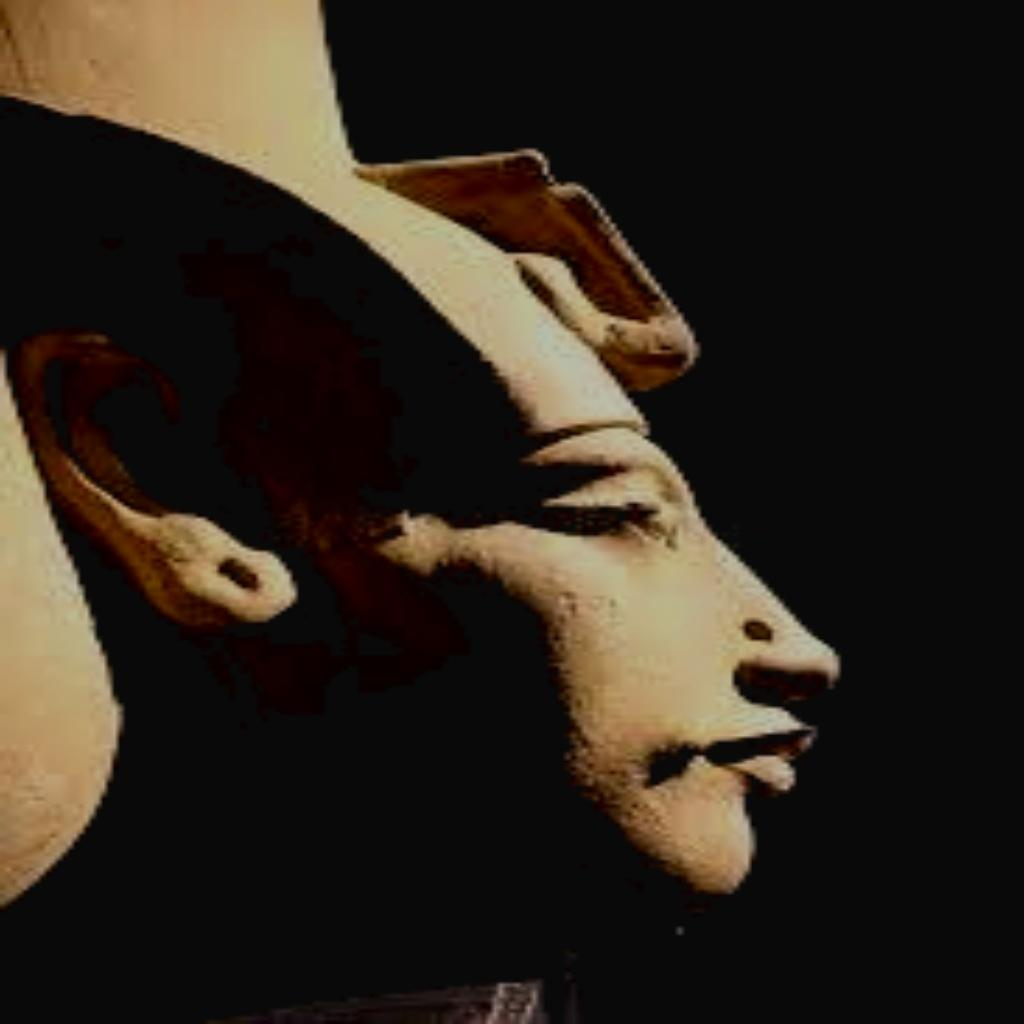Akhenaten: (0, 0, 856, 1020)
